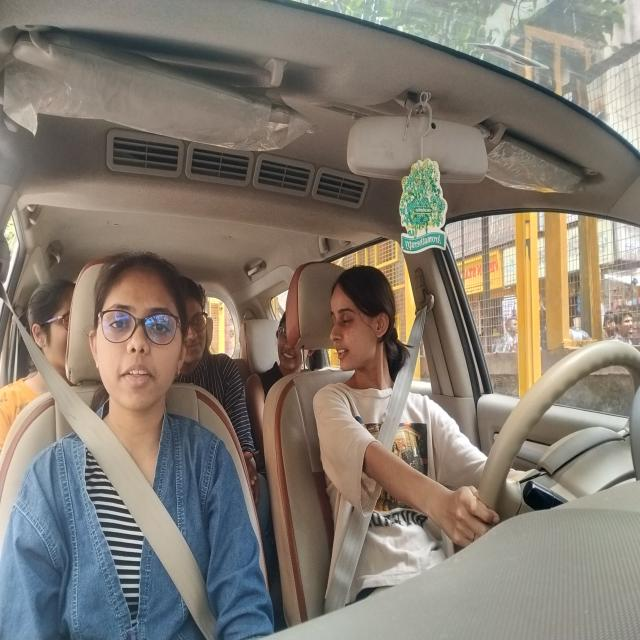LeftRight: (318, 262, 402, 380)
person: (88, 255, 186, 407), (28, 275, 75, 376), (176, 273, 212, 370), (273, 314, 306, 367)
